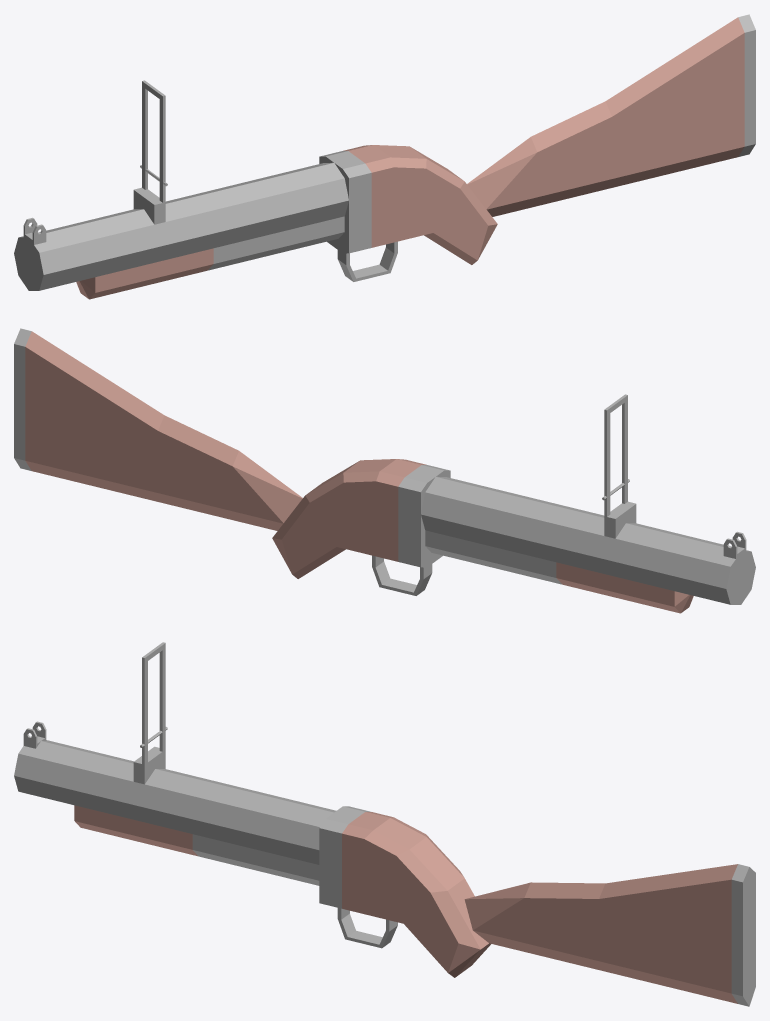
3 views of the same model, one above another, from view 1: azimuth 30°, elevation 25°; view 2: azimuth 150°, elevation 25°; view 3: azimuth 330°, elevation 25° (orthographic).
Visible parts, largest first — view 1: Gun, Barrel; view 2: Gun, Barrel; view 3: Gun, Barrel.
Part boxes in pixels (x1,y1,x2,y2): Gun: [208, 14, 755, 281]; Barrel: [14, 80, 348, 299]; Gun: [14, 328, 561, 595]; Barrel: [421, 394, 755, 613]; Gun: [192, 806, 755, 1006]; Barrel: [14, 642, 336, 864].
Size of the model in its own units: 0.637 by 0.2079 by 0.0454.
